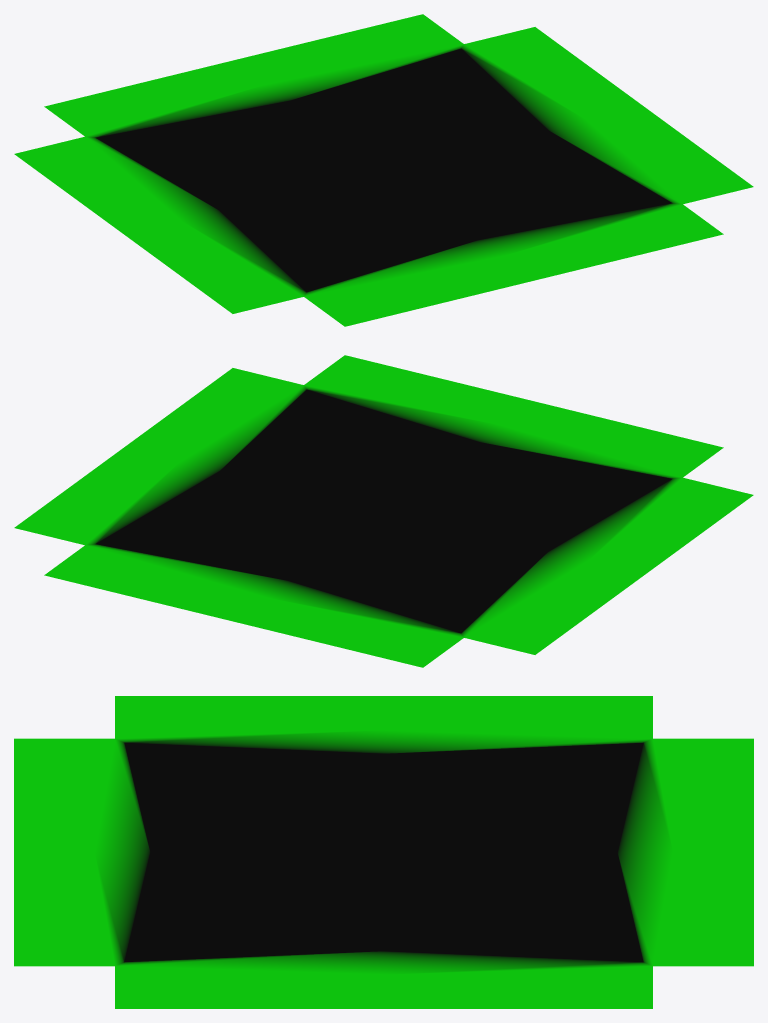
The model's file is X_crossing_sidewalk.fbx.
3 views of the same model, one above another, from view 1: azimuth 30°, elevation 25°; view 2: azimuth 150°, elevation 25°; view 3: azimuth 270°, elevation 25° (orthographic). The views are drawn at different scales.
Parts seen in each view (by area): view 1: X_crossing_sidewalk; view 2: X_crossing_sidewalk; view 3: X_crossing_sidewalk.
Part boxes in pixels (left/top/right/bottom): X_crossing_sidewalk: left=14, top=14, right=753, bottom=326; X_crossing_sidewalk: left=14, top=355, right=753, bottom=667; X_crossing_sidewalk: left=14, top=696, right=753, bottom=1008.
Size of the model in its own units: 1100 by 0 by 1100.
